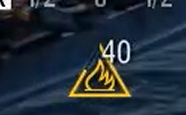1fire: (62, 66, 136, 101)
